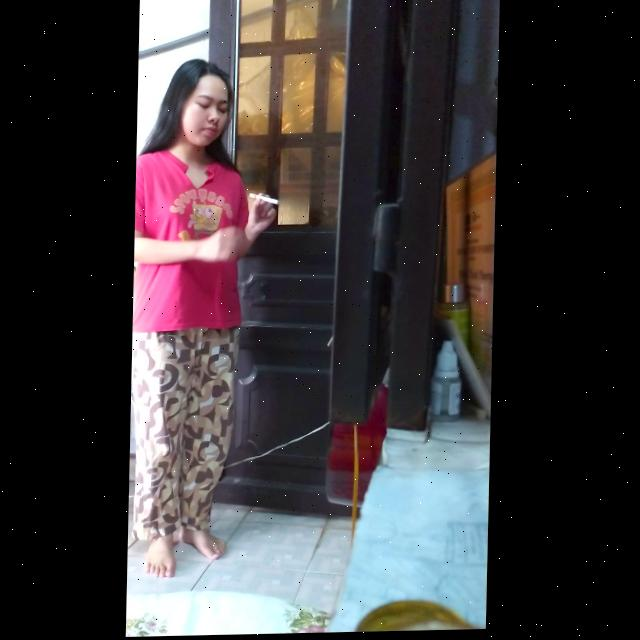cigarette: (250, 195, 279, 206)
